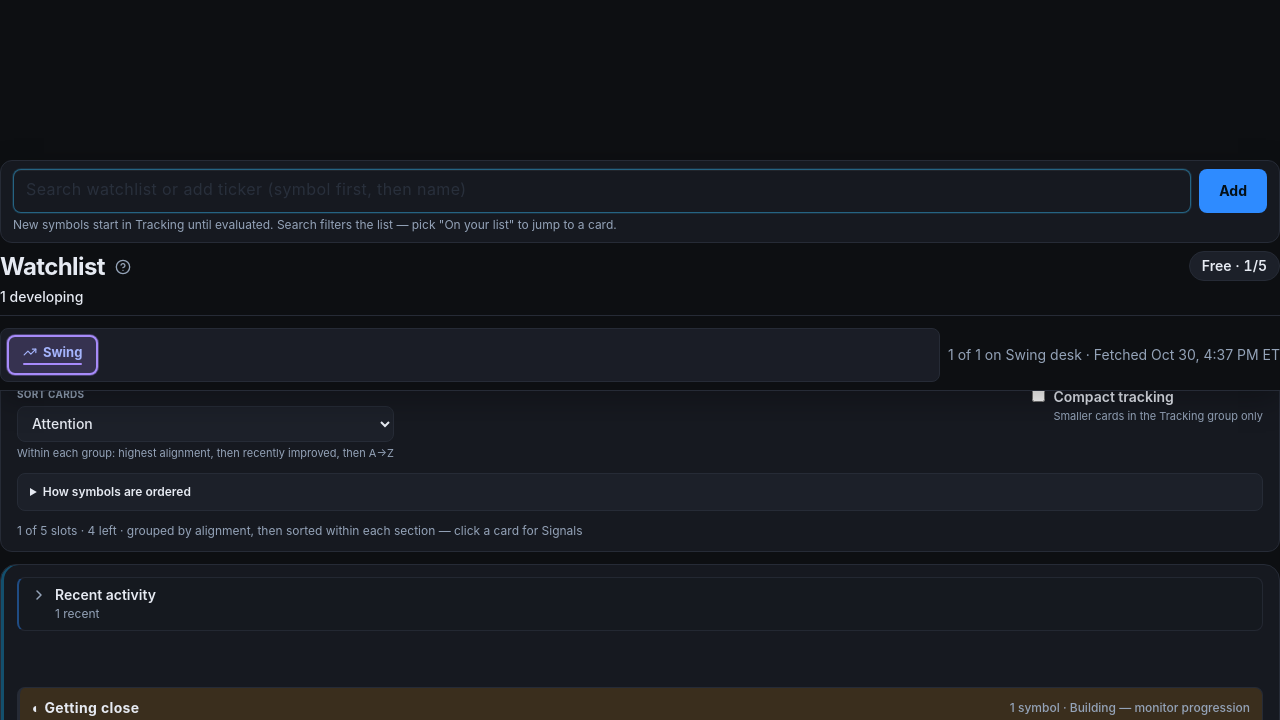
Test: WatchlistsPageClient maturation › shows recent watchlist_maturation rows from alert history on the default list
Expected: the element with test id "watchlist-activity" is shown, [17,577,1263,631]
Click the text "Recent activity" at (105, 595), box [55,586,156,604]
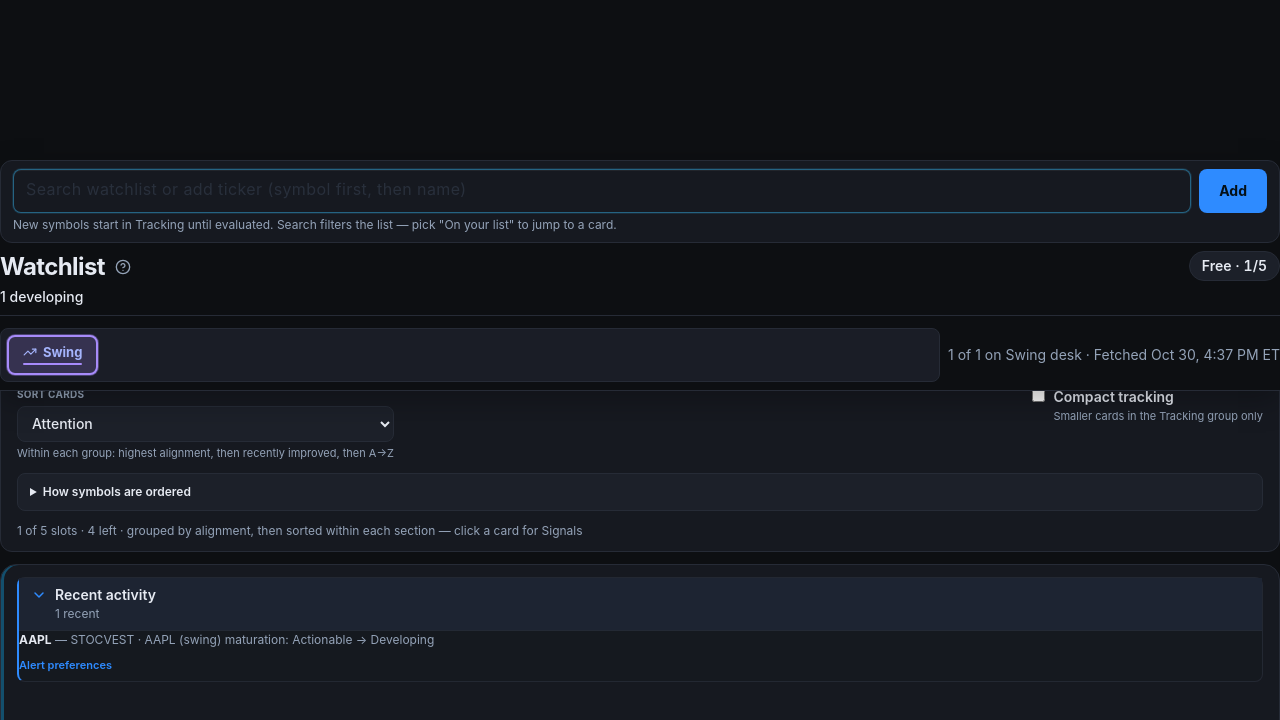
Now the text "STOCVEST · AAPL (swing) maturation: Actionable → Developing" is shown, box [70,632,434,647]
